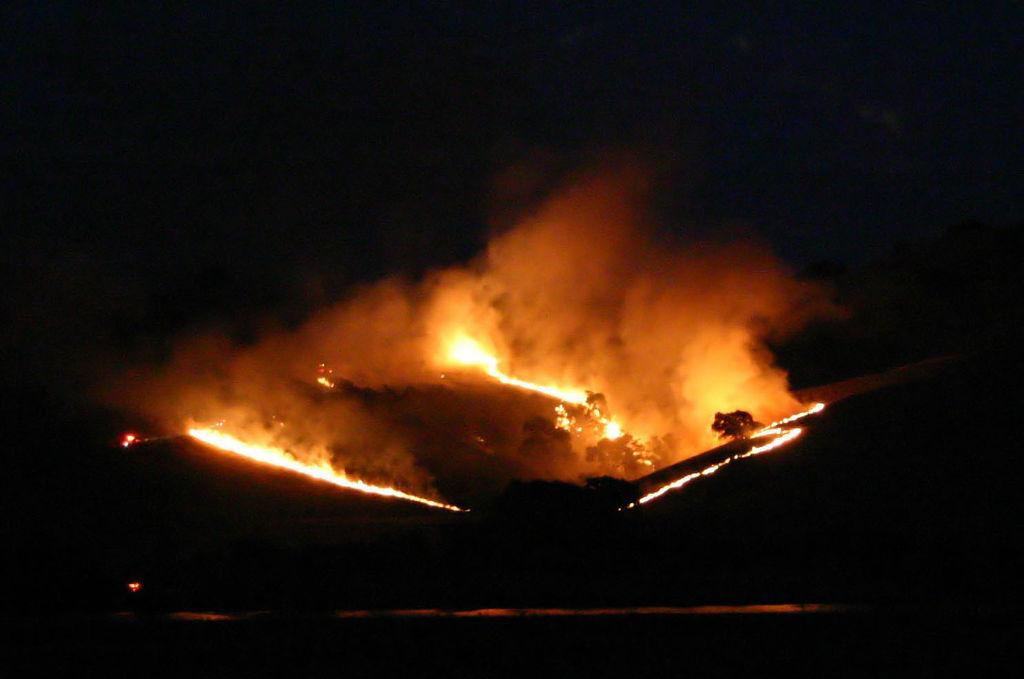fire: (442, 327, 530, 393), (190, 422, 292, 465), (557, 382, 603, 422)
